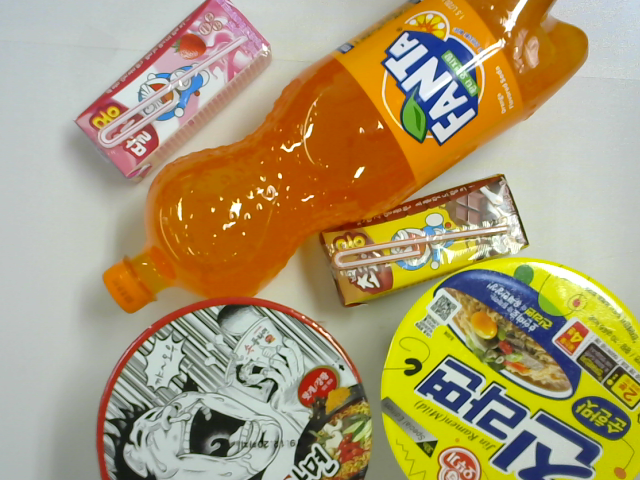Choco_E_Mong: (301, 163, 530, 308)
Hejangpul: (97, 288, 372, 480)
Hwanta_Orange_1.5L: (89, 1, 591, 325)
Jinlamyeon_Mild_Taste_Large_Cup: (382, 282, 631, 479)
Strawberry_E_Mong: (64, 1, 278, 175)
